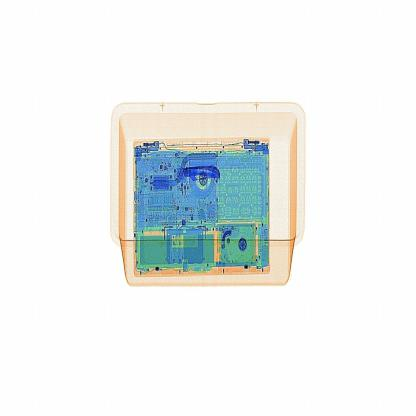knife: (184, 162, 228, 191)
